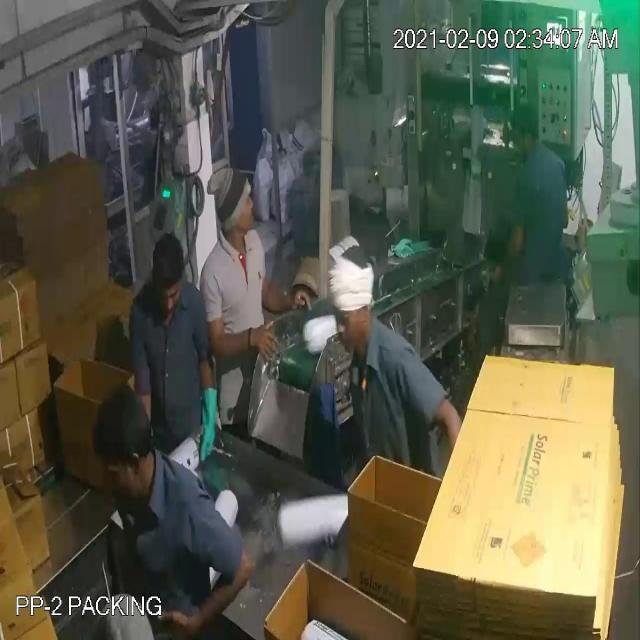No_Gloves: (41, 59, 288, 594)
